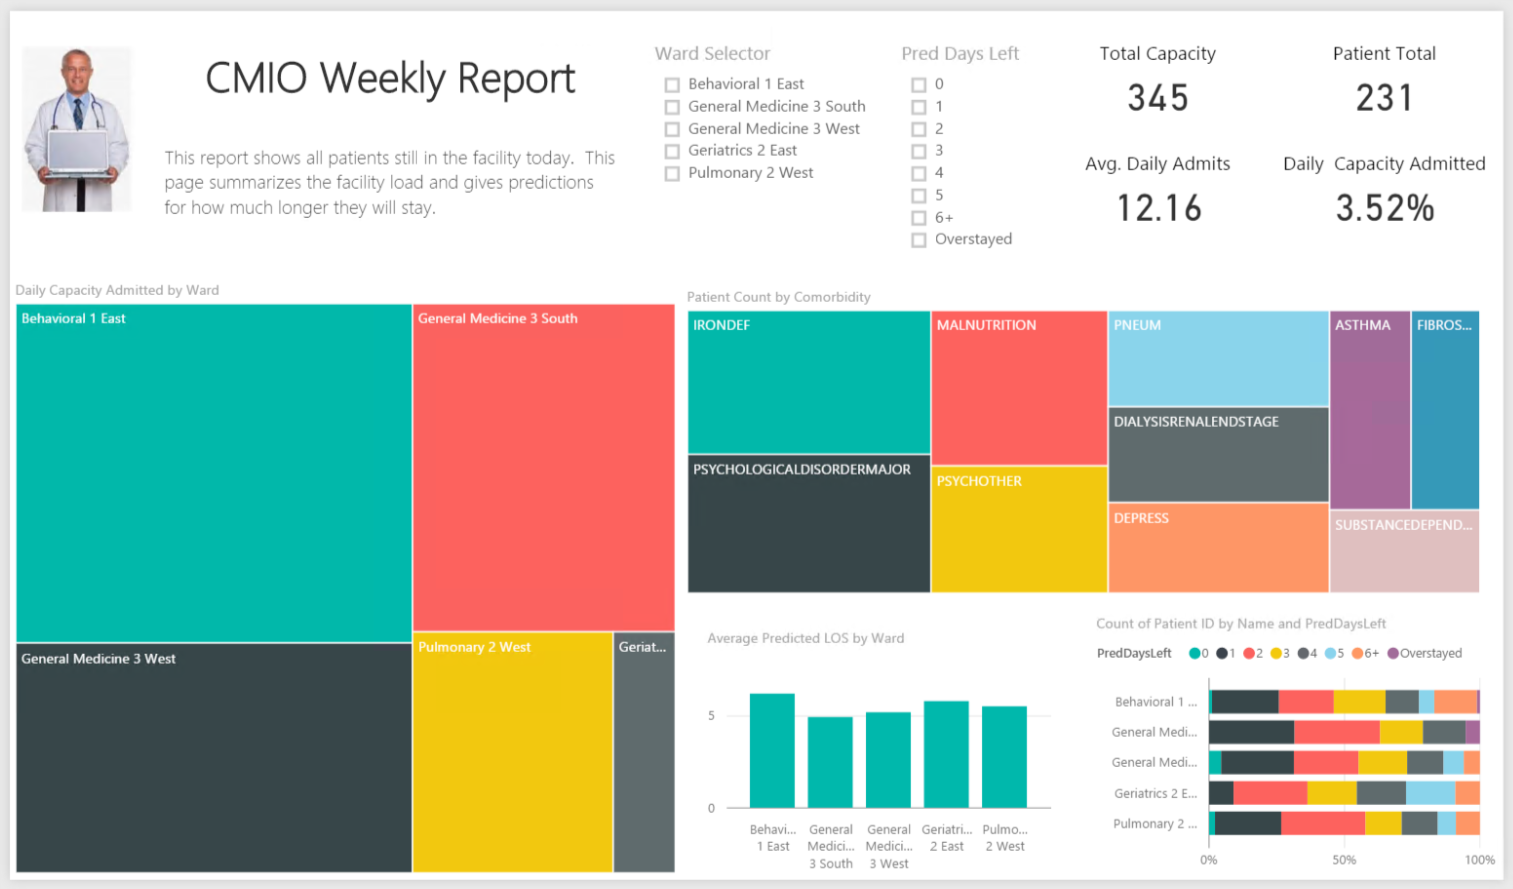

The dashboard page shown, as its layout file describes it:
{"tool":"powerbi","page":{"name":"CMIO Report","canvas":[1280,720],"ordinal":0},"visuals":[{"type":"textbox","box":[90.1,0,279.4,70.3],"z":1},{"type":"card","fields":{"Values":["Sum(MetaData_Facilities.Capacity)"]},"box":[681.7,10.6,169.7,92.4],"z":3},{"type":"treemap","fields":{"Values":["ScordData.RelativeDailyAdmits"],"Group":["MetaData_Facilities.Name"]},"box":[0,174.2,580.2,540.8],"z":4},{"type":"slicer","fields":{"Values":["MetaData_Facilities.Name"]},"box":[395.4,0,150,136.3],"z":8},{"type":"treemap","fields":{"Values":["Count(comorsBlowout.encounter_id)"],"Group":["comorsBlowout.ReadableComor"]},"box":[584.7,177.2,689.2,268.1],"z":8},{"type":"image","box":[0,14.4,72.1,36.1],"z":9},{"type":"slicer","fields":{"Values":["ScordData.Predicted_LOS_Bucket"]},"box":[543.8,0,165.1,125.7],"z":11},{"type":"clusteredBarChart","fields":{"Series":["ScordData.Predicted_LOS_Bucket"],"Category":["MetaData_Facilities.Name"],"Y":["Count(ScordData.Patient ID)"]},"box":[590.2,465.3,688.3,254.2],"z":12},{"type":"card","fields":{"Values":["ScordData.AverageUtilization"]},"box":[934.6,12.1,150,84.8],"z":13},{"type":"card","fields":{"Values":["CountNonNull(ScordData.encounter_id)"]},"box":[789.2,10.6,201.5,95.4],"z":14},{"type":"card","fields":{"Values":["ScordData.MinDate"]},"box":[104.1,80.3,182.9,71.4],"z":14},{"type":"card","fields":{"Values":["ScordData.AverageDailyUtilization"]},"box":[1067.9,9.1,207.5,104.5],"z":15}]}

Visuals, with their boxes on the page's 1280x720 design canvas (x1, y1, x2, y2). These are canvas units, not pixel positions in the 1513x889 screenshot, which may show the page scaled, cropped or inside an application window:
textbox: <bbox>90, 0, 370, 70</bbox>
card - Sum(MetaData_Facilities.Capacity): <bbox>682, 11, 851, 103</bbox>
treemap - ScordData.RelativeDailyAdmits x MetaData_Facilities.Name: <bbox>0, 174, 580, 715</bbox>
slicer - MetaData_Facilities.Name: <bbox>395, 0, 545, 136</bbox>
treemap - Count(comorsBlowout.encounter_id) x comorsBlowout.ReadableComor: <bbox>585, 177, 1274, 445</bbox>
image: <bbox>0, 14, 72, 50</bbox>
slicer - ScordData.Predicted_LOS_Bucket: <bbox>544, 0, 709, 126</bbox>
clusteredBarChart - ScordData.Predicted_LOS_Bucket x MetaData_Facilities.Name: <bbox>590, 465, 1278, 720</bbox>
card - ScordData.AverageUtilization: <bbox>935, 12, 1085, 97</bbox>
card - CountNonNull(ScordData.encounter_id): <bbox>789, 11, 991, 106</bbox>
card - ScordData.MinDate: <bbox>104, 80, 287, 152</bbox>
card - ScordData.AverageDailyUtilization: <bbox>1068, 9, 1275, 114</bbox>
